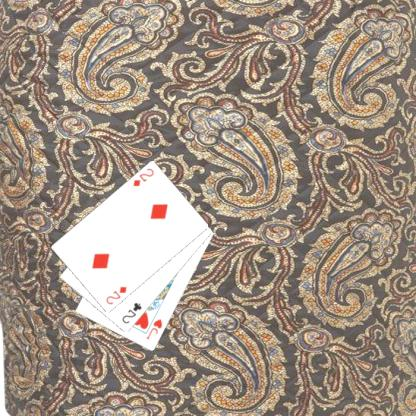2C: (119, 300, 143, 325)
2D: (103, 284, 128, 306), (130, 166, 155, 188)
JH: (144, 316, 164, 341)
